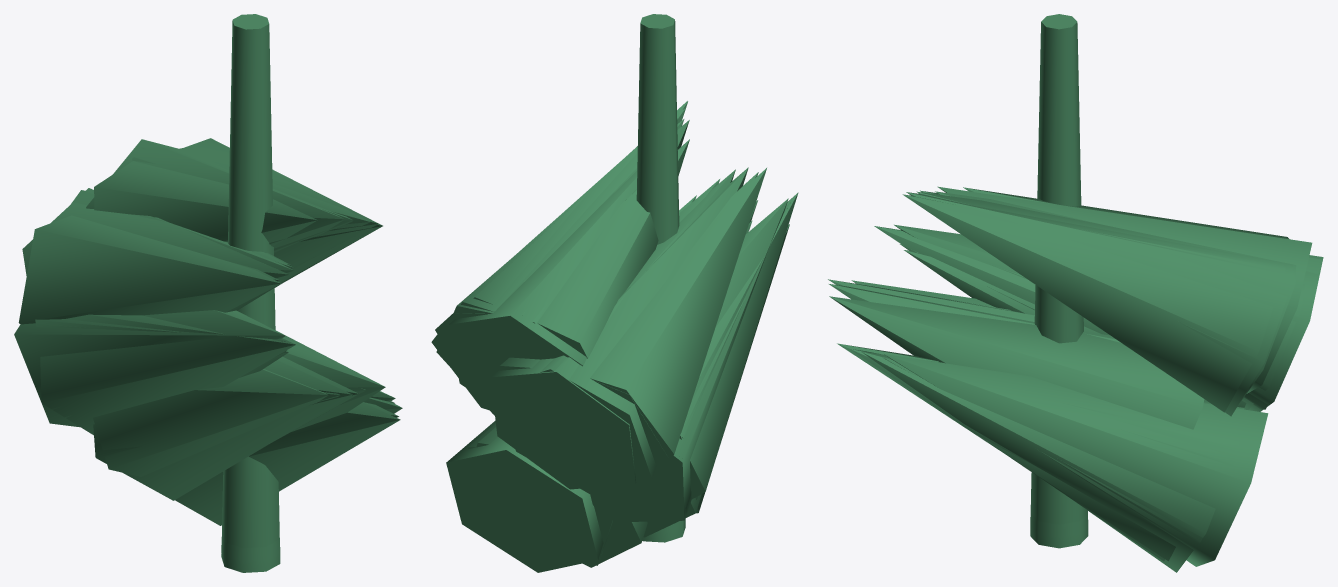
The model's file is flora.glb.
3 views of the same model, side by side, from view 1: azimuth 30°, elevation 25°; view 2: azimuth 150°, elevation 25°; view 3: azimuth 270°, elevation 25° (orthographic). The views are drawn at different scales.
Parts seen in each view (by area): view 1: volcanic-flora-03-lod0-leaf-3, volcanic-flora-04-lod0-stem, volcanic-flora-03-lod0-leaf-2, desert-flora-04-lod0-leaf-1, ice-flora-02-lod0-leaf-4, volcanic-flora-04-lod0-leaf-0, volcanic-flora-04-lod0-leaf-2, volcanic-flora-04-lod0-leaf-1, volcanic-flora-04-lod0-leaf-3, volcanic-flora-02-lod0-leaf-4, ocean-flora-03-lod0-leaf-1, ocean-flora-03-lod0-leaf-4 (+6 smaller); view 2: volcanic-flora-03-lod0-leaf-3, ocean-flora-03-lod0-leaf-3, ocean-flora-03-lod0-leaf-0, volcanic-flora-02-lod0-leaf-4, ice-flora-02-lod0-leaf-4, volcanic-flora-04-lod0-stem, volcanic-flora-04-lod0-leaf-2, volcanic-flora-04-lod0-leaf-3, volcanic-flora-03-lod0-leaf-2, volcanic-flora-04-lod0-leaf-4, volcanic-flora-03-lod0-leaf-4, ocean-flora-03-lod0-leaf-4 (+6 smaller); view 3: ocean-flora-03-lod0-leaf-4, ocean-flora-03-lod0-leaf-0, ocean-flora-03-lod0-leaf-1, volcanic-flora-03-lod0-leaf-0, volcanic-flora-04-lod0-stem, volcanic-flora-04-lod0-leaf-4, volcanic-flora-02-lod0-leaf-4, volcanic-flora-03-lod0-leaf-4, volcanic-flora-04-lod0-leaf-0, volcanic-flora-03-lod0-leaf-2, ocean-flora-03-lod0-leaf-3, gasgiant-flora-01-lod0-leaf-2 (+9 smaller).
Part boxes in pixels (x1,y1,x2,y2): volcanic-flora-03-lod0-leaf-3: [18, 215, 281, 324]; volcanic-flora-04-lod0-stem: [222, 14, 279, 572]; volcanic-flora-03-lod0-leaf-2: [40, 314, 295, 435]; desert-flora-04-lod0-leaf-1: [93, 369, 328, 476]; ice-flora-02-lod0-leaf-4: [94, 161, 317, 246]; volcanic-flora-04-lod0-leaf-0: [175, 402, 400, 525]; volcanic-flora-04-lod0-leaf-2: [14, 310, 285, 427]; volcanic-flora-04-lod0-leaf-1: [93, 360, 352, 500]; volcanic-flora-04-lod0-leaf-3: [22, 188, 289, 280]; volcanic-flora-02-lod0-leaf-4: [86, 139, 344, 248]; ocean-flora-03-lod0-leaf-1: [277, 331, 385, 431]; ocean-flora-03-lod0-leaf-4: [189, 140, 382, 283]; volcanic-flora-03-lod0-leaf-3: [590, 168, 766, 493]; ocean-flora-03-lod0-leaf-3: [490, 169, 735, 489]; ocean-flora-03-lod0-leaf-0: [446, 420, 603, 572]; volcanic-flora-02-lod0-leaf-4: [449, 120, 689, 406]; ice-flora-02-lod0-leaf-4: [537, 139, 689, 358]; volcanic-flora-04-lod0-stem: [636, 14, 685, 542]; volcanic-flora-04-lod0-leaf-2: [590, 198, 788, 522]; volcanic-flora-04-lod0-leaf-3: [515, 167, 748, 497]; volcanic-flora-03-lod0-leaf-2: [690, 192, 798, 499]; volcanic-flora-04-lod0-leaf-4: [431, 102, 687, 409]; volcanic-flora-03-lod0-leaf-4: [436, 107, 686, 414]; ocean-flora-03-lod0-leaf-4: [435, 101, 687, 333]; ocean-flora-03-lod0-leaf-4: [902, 194, 1285, 412]; ocean-flora-03-lod0-leaf-0: [883, 353, 1268, 566]; ocean-flora-03-lod0-leaf-1: [829, 296, 1204, 429]; volcanic-flora-03-lod0-leaf-0: [861, 351, 1239, 572]; volcanic-flora-04-lod0-stem: [1030, 14, 1087, 548]; volcanic-flora-04-lod0-leaf-4: [906, 192, 1294, 416]; volcanic-flora-02-lod0-leaf-4: [937, 186, 1312, 393]; volcanic-flora-03-lod0-leaf-4: [916, 191, 1296, 406]; volcanic-flora-04-lod0-leaf-0: [837, 343, 1175, 561]; volcanic-flora-03-lod0-leaf-2: [874, 226, 1109, 335]; ocean-flora-03-lod0-leaf-3: [1248, 255, 1323, 411]; gasgiant-flora-01-lod0-leaf-2: [904, 250, 1034, 315].
Size of what is drawn, in the model's own units: 0.7986 by 1.58 by 1.36.
